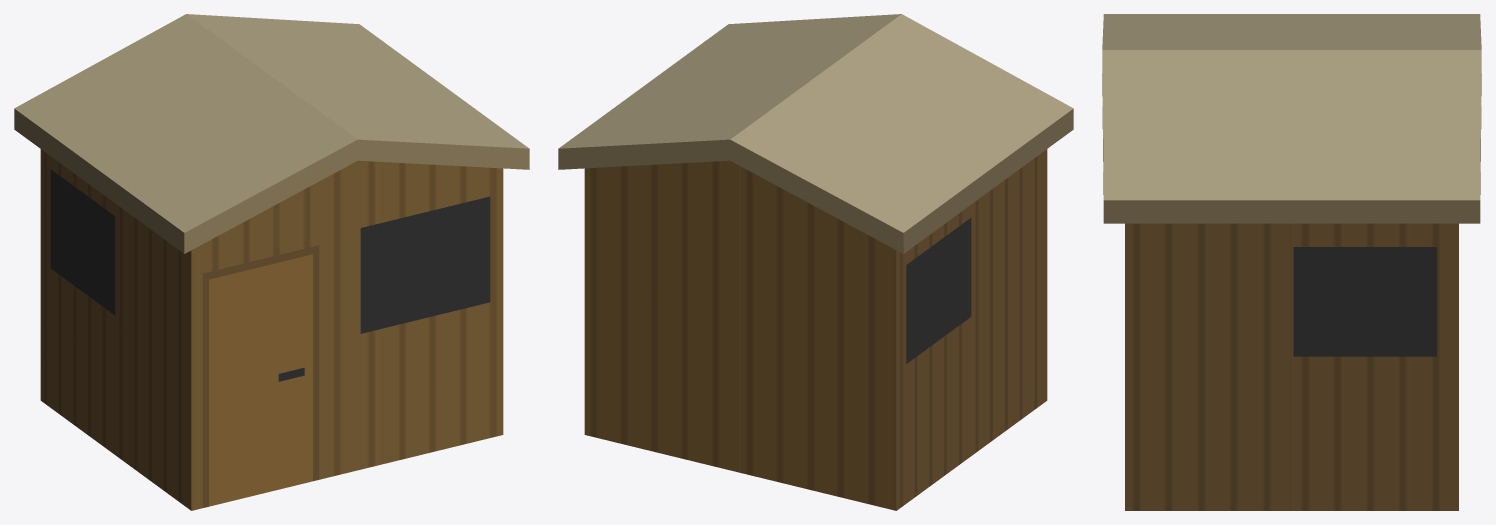
File: SM_GardenShed_Wood_01.fbx
3 renders of one model, left to right at view 1: azimuth 30°, elevation 25°; view 2: azimuth 150°, elevation 25°; view 3: azimuth 270°, elevation 25°, orthographic. The views are drawn at different scales.
Parts seen in each view (by area): view 1: SM_GardenShed_Wood_01; view 2: SM_GardenShed_Wood_01; view 3: SM_GardenShed_Wood_01.
Boxes of the visible parts, x1=… form: SM_GardenShed_Wood_01: x1=14, y1=14, x2=529, y2=510; SM_GardenShed_Wood_01: x1=558, y1=14, x2=1073, y2=510; SM_GardenShed_Wood_01: x1=1102, y1=14, x2=1481, y2=510.
Bounding box in the file's own units: 4.62 × 4.36 × 3.98.
